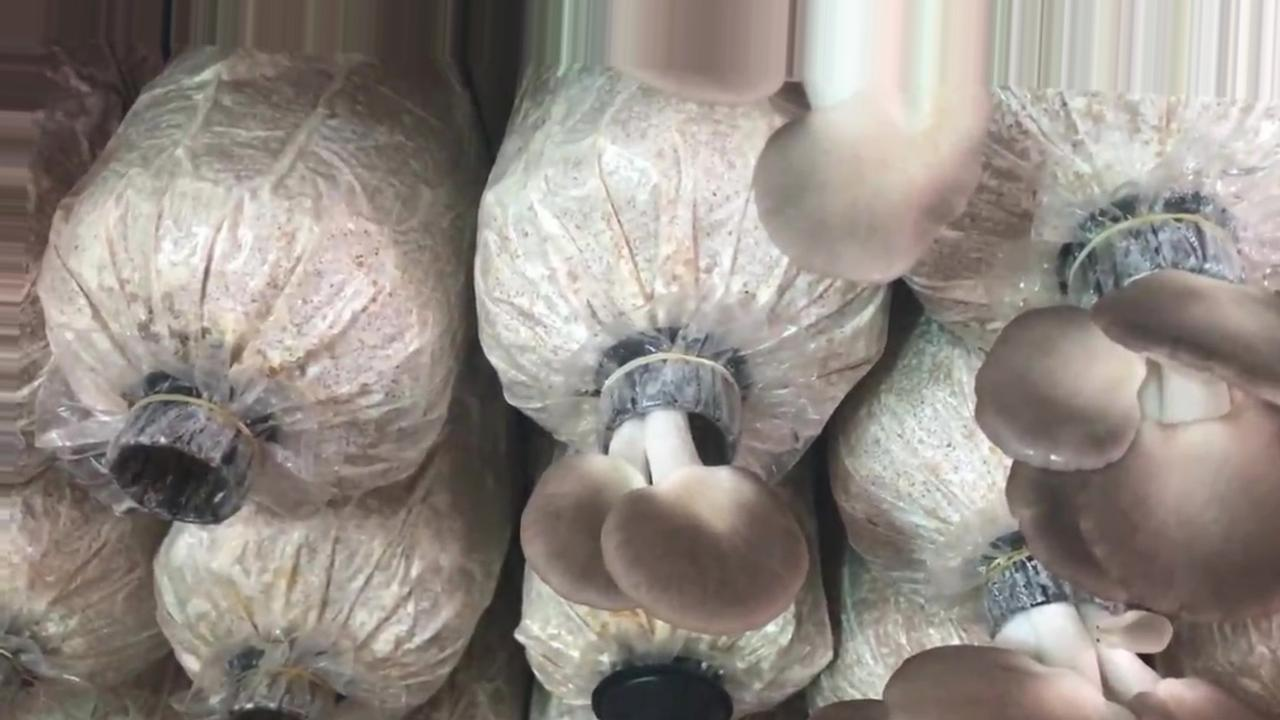nam: (977, 206, 1280, 620), (608, 1, 991, 287), (524, 359, 809, 634), (807, 573, 1238, 720)
